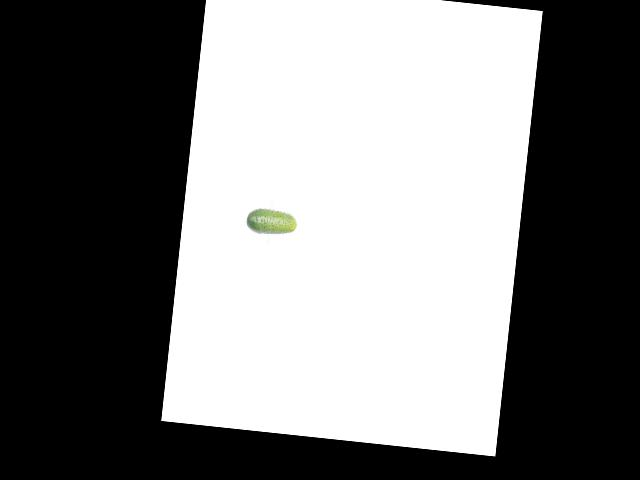cucumber: (245, 206, 298, 237)
